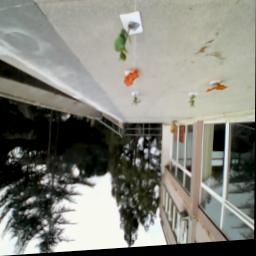herb: (115, 29, 133, 66), (189, 97, 198, 113), (133, 96, 141, 108)
wild: (206, 83, 230, 99), (124, 70, 142, 91)
